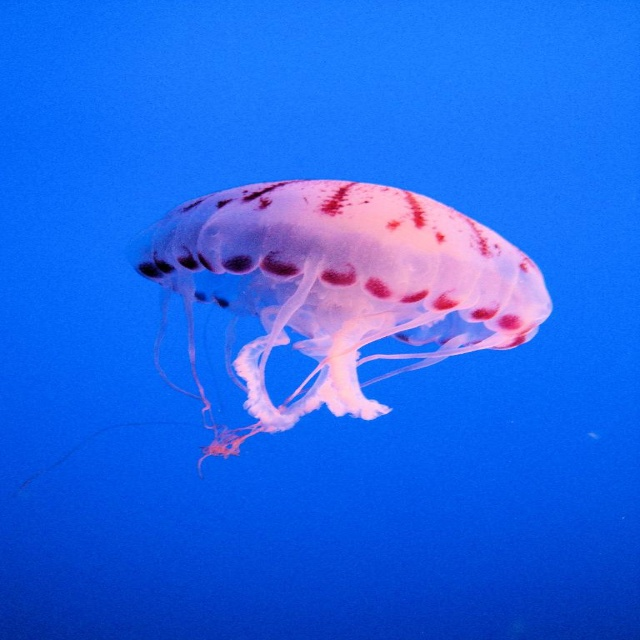Jellyfish: (7, 176, 553, 498)
